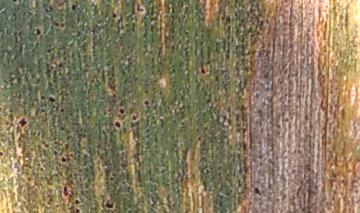tarspot: (61, 183, 70, 198), (112, 119, 123, 130), (104, 198, 114, 210), (18, 115, 27, 128), (135, 2, 144, 15), (252, 186, 261, 196), (129, 113, 138, 122), (198, 66, 207, 75), (58, 123, 67, 132), (110, 10, 118, 20), (142, 99, 150, 107), (118, 106, 125, 115), (69, 4, 77, 11), (63, 142, 69, 151), (35, 27, 41, 36), (73, 206, 80, 213), (47, 5, 54, 12), (48, 95, 54, 103), (213, 74, 219, 82), (58, 107, 65, 113), (60, 156, 67, 162), (43, 142, 50, 148), (108, 174, 114, 181), (45, 47, 51, 54), (59, 21, 65, 28), (53, 20, 59, 27), (196, 135, 202, 142), (1, 149, 5, 158), (43, 7, 49, 13), (74, 198, 79, 205), (10, 1, 18, 4)
